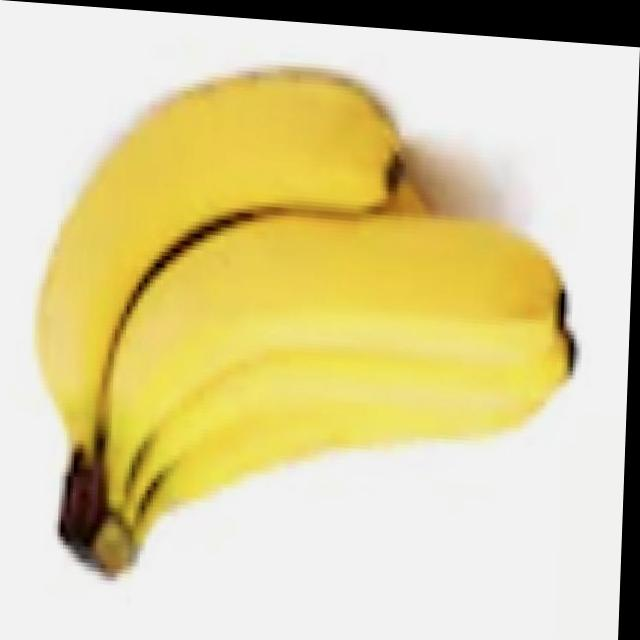Banana: (28, 52, 586, 608)
